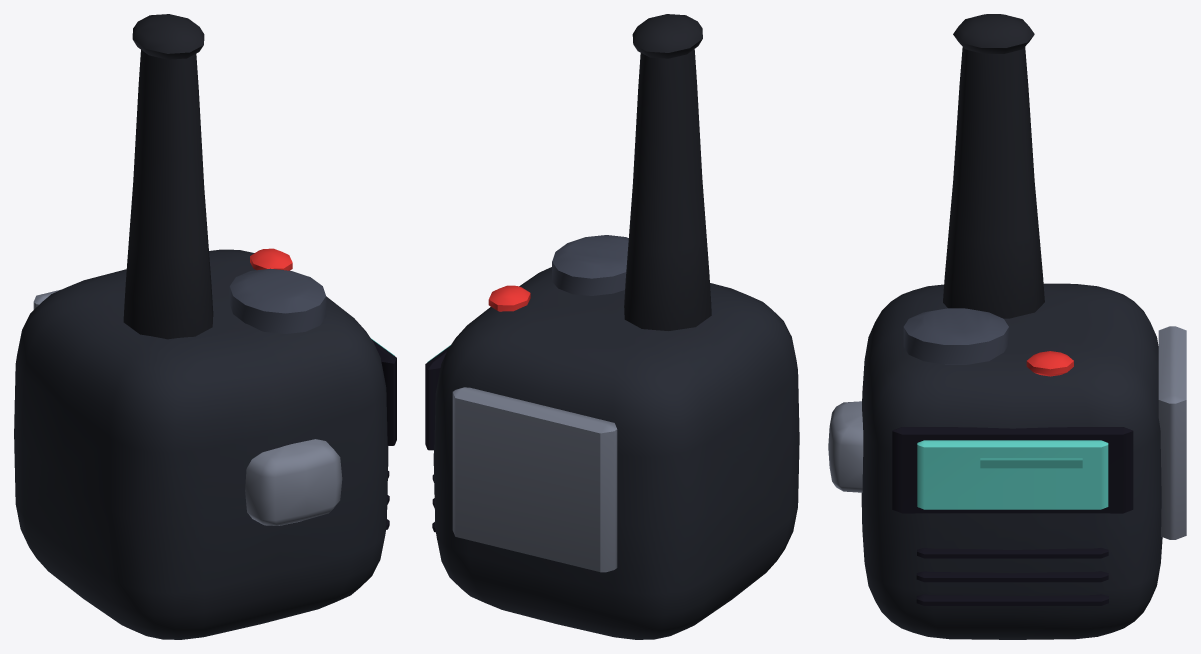
The model's file is SM_Crew_Walkie.fbx.
3 renders of one model, left to right at view 1: azimuth 30°, elevation 25°; view 2: azimuth 150°, elevation 25°; view 3: azimuth 270°, elevation 25°, orthographic. The views are drawn at different scales.
Visible parts, largest first — view 1: SM_Crew_Walkie; view 2: SM_Crew_Walkie; view 3: SM_Crew_Walkie.
Boxes of the visible parts, x1=… form: SM_Crew_Walkie: x1=14, y1=14, x2=396, y2=639; SM_Crew_Walkie: x1=425, y1=14, x2=799, y2=639; SM_Crew_Walkie: x1=828, y1=14, x2=1186, y2=639.
Size of the model in its own units: 103 by 198 by 114.
